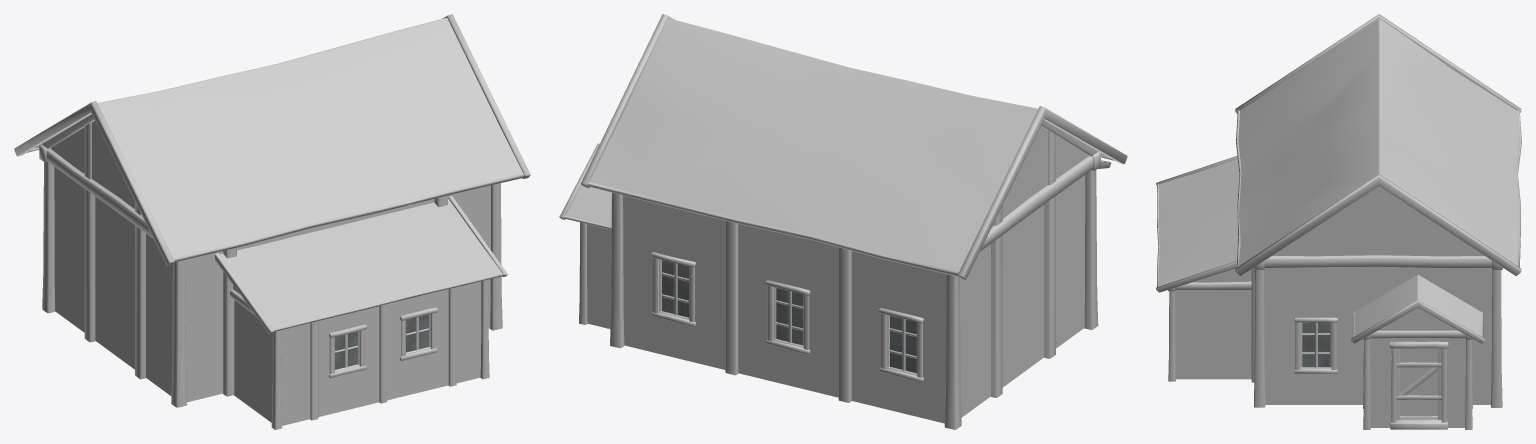
The model's file is House_5.FBX.
The picture shows the model from 3 angles, left to right: view 1: azimuth 30°, elevation 25°; view 2: azimuth 150°, elevation 25°; view 3: azimuth 270°, elevation 25°; orthographic projection. The views are drawn at different scales.
Visible parts, largest first — view 1: Mesh; view 2: Mesh; view 3: Mesh.
Part boxes in pixels (x1,y1,x2,y2): Mesh: (14,14,530,429); Mesh: (559,14,1127,429); Mesh: (1156,14,1521,429).
Size of the model in its own units: 1169 by 1002 by 729.
